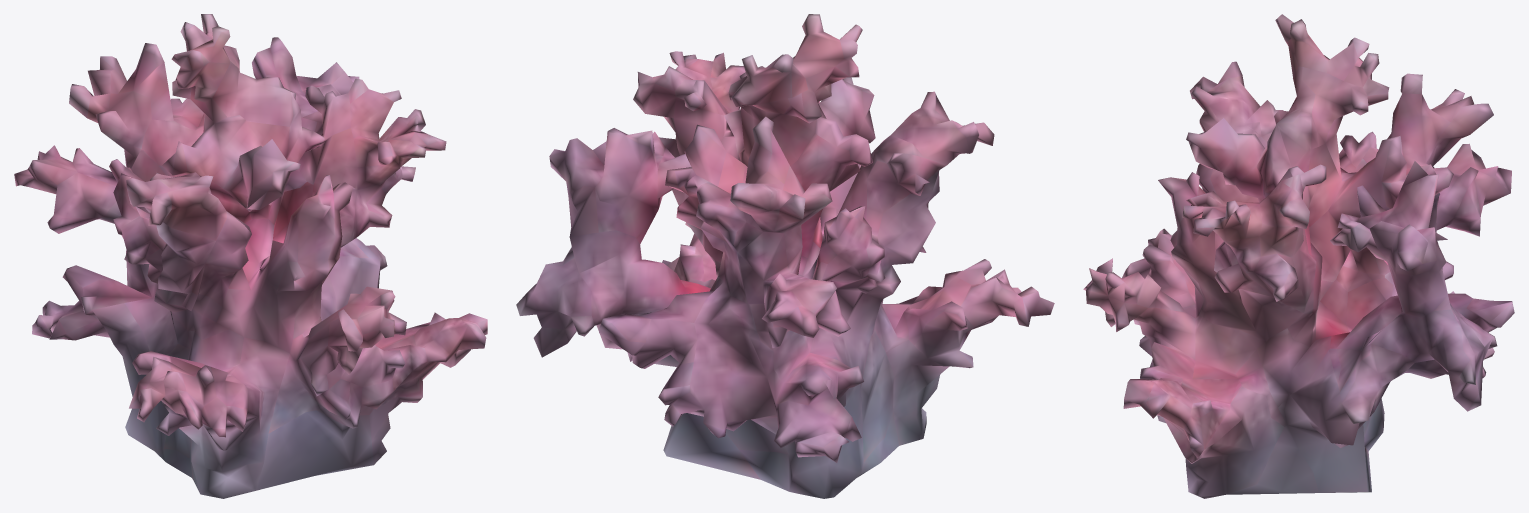
The model's file is branching-bush.glb.
3 views of the same model, side by side, from view 1: azimuth 30°, elevation 25°; view 2: azimuth 150°, elevation 25°; view 3: azimuth 270°, elevation 25° (orthographic). The views are drawn at different scales.
Parts seen in each view (by area): view 1: tripo_node_1e4af7da-dad1-4a3f-8951-710b6a247b66; view 2: tripo_node_1e4af7da-dad1-4a3f-8951-710b6a247b66; view 3: tripo_node_1e4af7da-dad1-4a3f-8951-710b6a247b66.
Part boxes in pixels (box(x1,y1,x2,y2)): tripo_node_1e4af7da-dad1-4a3f-8951-710b6a247b66: box(14, 14, 487, 498); tripo_node_1e4af7da-dad1-4a3f-8951-710b6a247b66: box(516, 14, 1054, 498); tripo_node_1e4af7da-dad1-4a3f-8951-710b6a247b66: box(1083, 14, 1514, 498).
Bounding box in the file's own units: 0.8178 × 0.9413 × 0.8697.
Materials: 1 (1 with a texture image).
